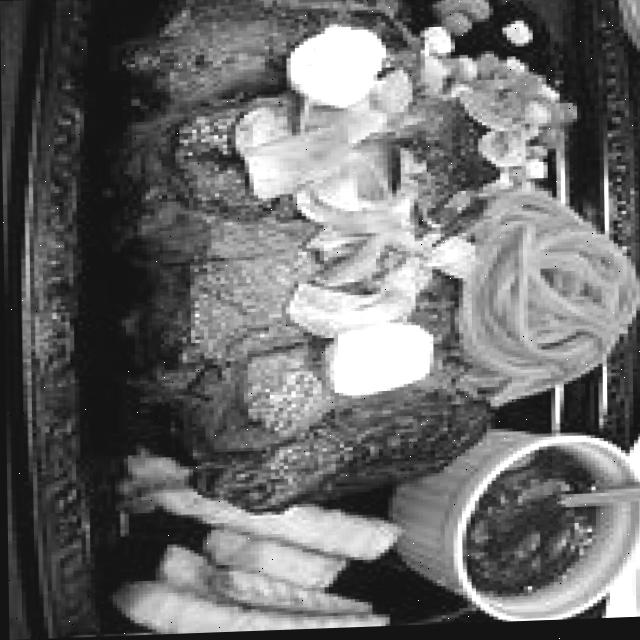牛肉菜式: (108, 0, 499, 524)
